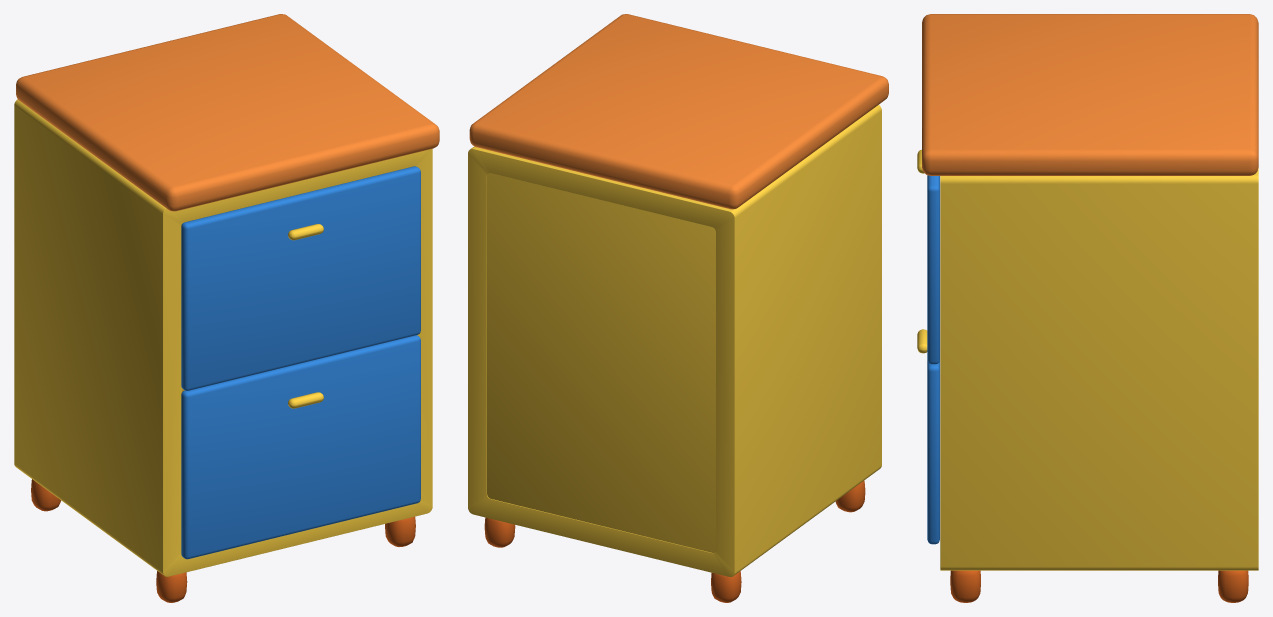
File: gaveteiro_cozinha_largo_2gavetas_moderna.glb
The picture shows the model from 3 angles, left to right: view 1: azimuth 30°, elevation 25°; view 2: azimuth 150°, elevation 25°; view 3: azimuth 270°, elevation 25°; orthographic projection. The views are drawn at different scales.
Parts seen in each view (by area): view 1: gaveteiro_cozinha_largo_2gavetas_moderna, gaveta_1, gaveta_2; view 2: gaveteiro_cozinha_largo_2gavetas_moderna; view 3: gaveteiro_cozinha_largo_2gavetas_moderna, gaveta_2, gaveta_1.
Boxes of the visible parts, x1,y1,x2,y2 form: gaveteiro_cozinha_largo_2gavetas_moderna: (14, 14, 439, 602); gaveta_1: (181, 166, 420, 390); gaveta_2: (181, 335, 420, 559); gaveteiro_cozinha_largo_2gavetas_moderna: (468, 14, 888, 602); gaveteiro_cozinha_largo_2gavetas_moderna: (922, 14, 1258, 602); gaveta_2: (917, 329, 939, 544); gaveta_1: (917, 149, 939, 364).
Bounding box in the file's own units: 0.598 × 0.9 × 0.607.
Materials: 1 (1 with a texture image).
